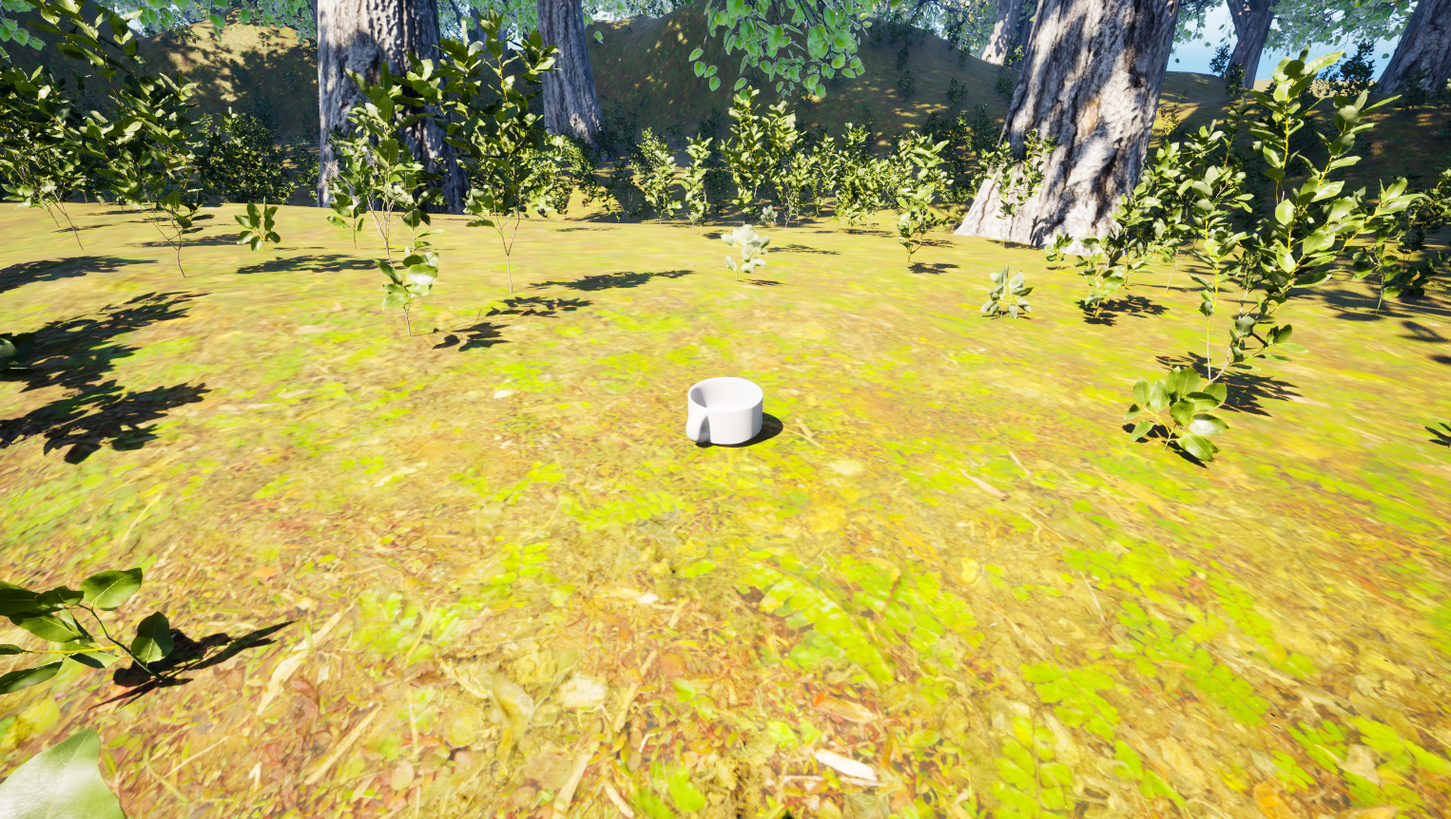Teacup: (668, 372, 775, 453)
